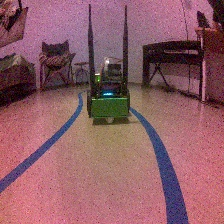rob: (85, 56, 130, 124)
